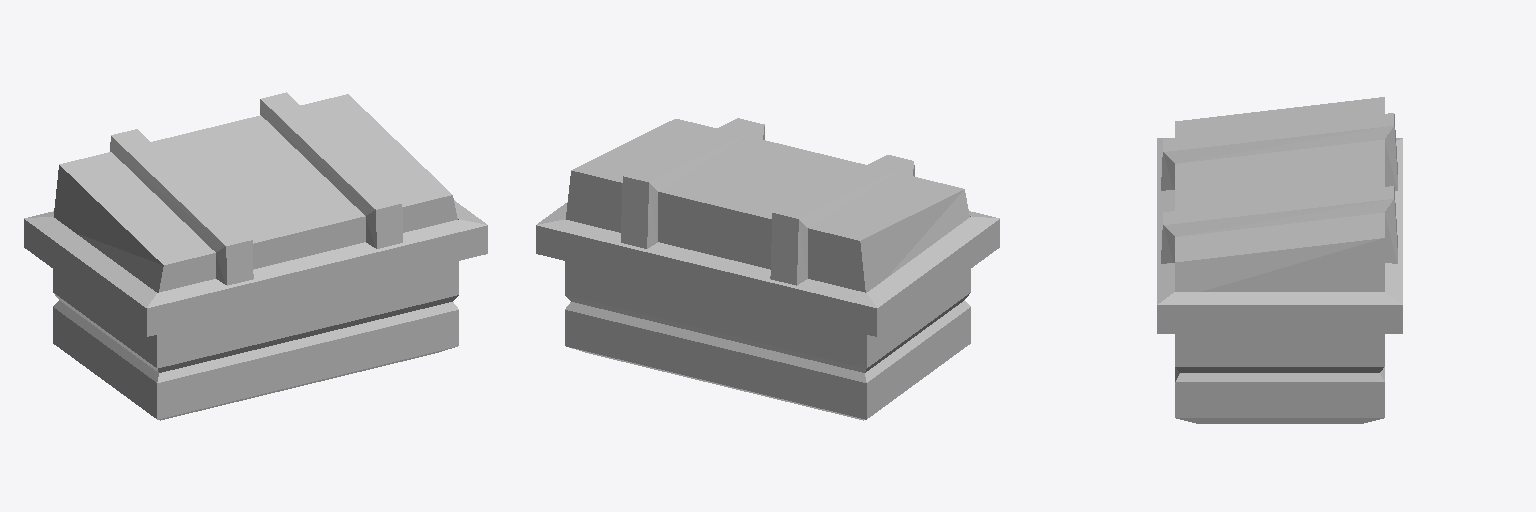
Rendered from bin.obj.
3 renders of one model, left to right at view 1: azimuth 30°, elevation 25°; view 2: azimuth 150°, elevation 25°; view 3: azimuth 270°, elevation 25°, orthographic.
Visible parts, largest first — view 1: dumpster; view 2: dumpster; view 3: dumpster.
Boxes of the visible parts, box(x1,y1,x2,y2) form: dumpster: box(24, 92, 487, 420); dumpster: box(536, 118, 999, 420); dumpster: box(1157, 97, 1402, 423).
Size of the model in its own units: 0.5659 by 0.3173 by 0.3528.